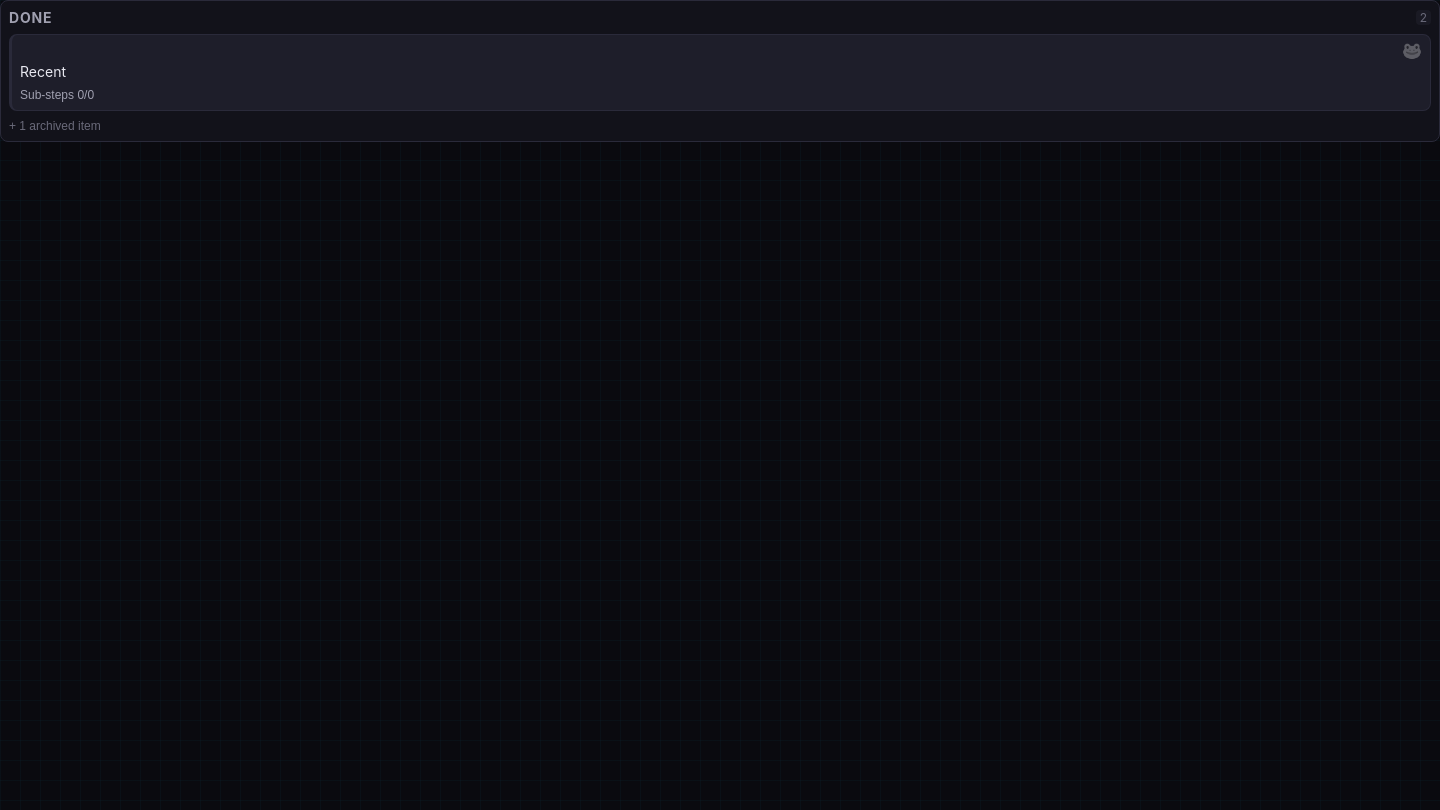
Scenario: Column (Done) archive toggle › shows recent done todos and hides archived behind a toggle
Expected: the text "Recent" is shown, [20,63,66,80]
Expected: the text "Old" is not shown
Click the button "+ 1 archived item".
click(55, 126)  # box [9,119,1431,133]
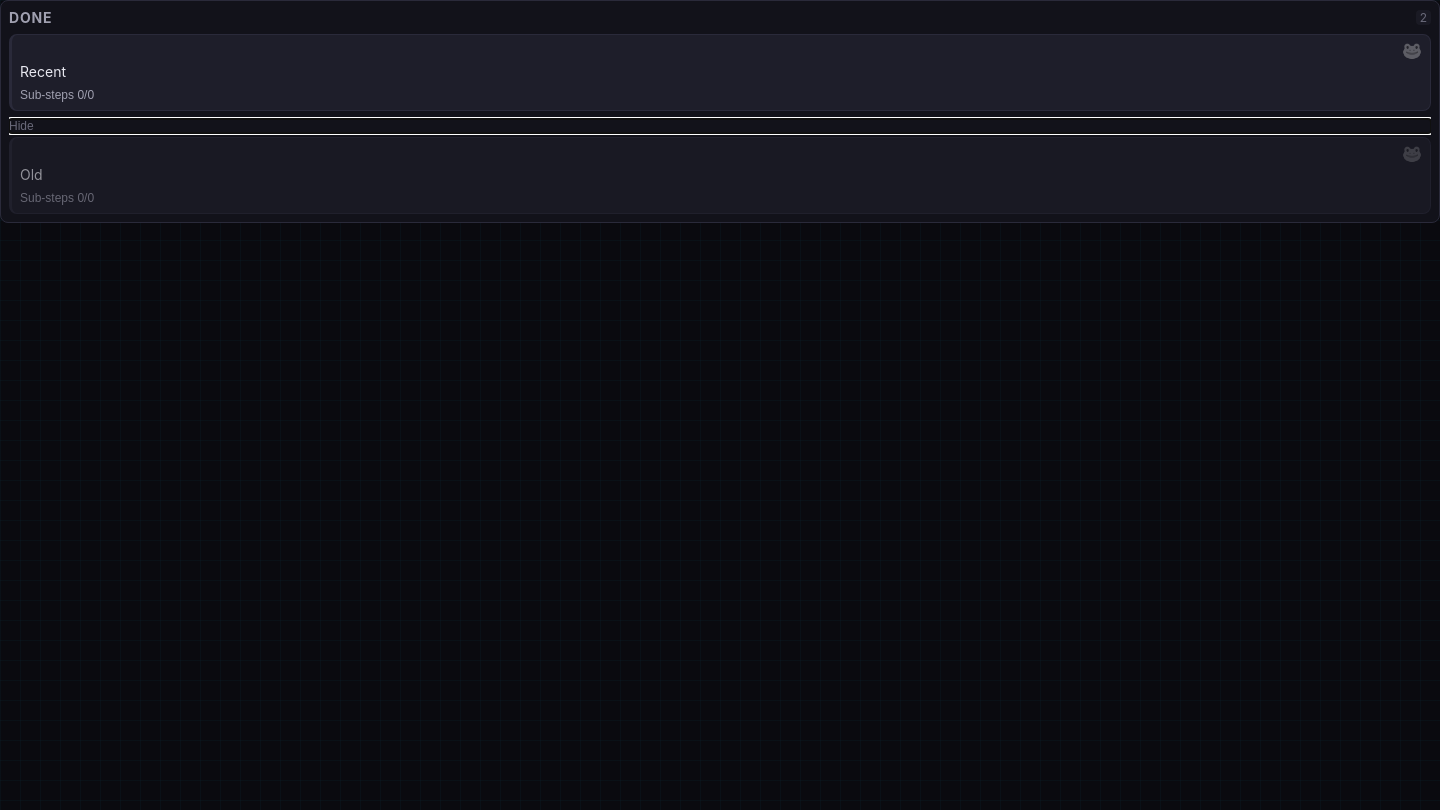
Result: the text "Old" is shown at [20,166,43,183]
